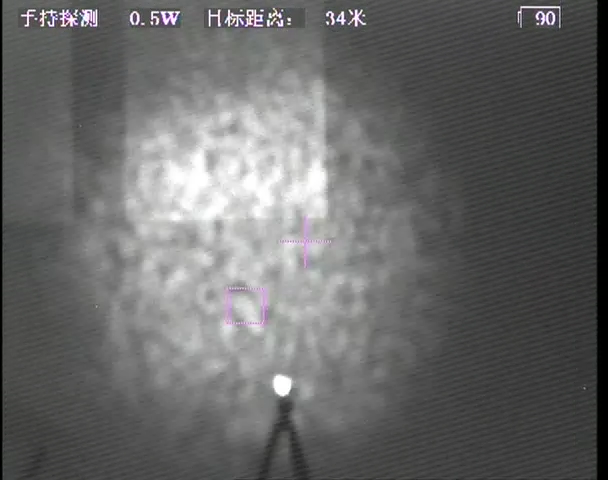my: (271, 373, 292, 396)
